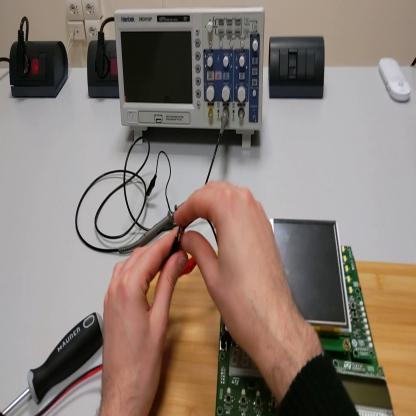hand: (178, 181, 299, 363), (102, 222, 185, 413)
low voltage board: (185, 219, 392, 415)
oscilloscope: (115, 1, 265, 144)
oscilloscope probe tip: (119, 204, 185, 256)
screwdriver-: (3, 310, 105, 414)
socket: (11, 36, 70, 103), (87, 38, 121, 101)
working area: (147, 257, 416, 414)
